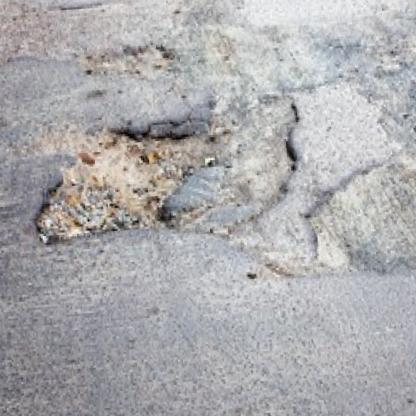pothole: (27, 120, 204, 250), (88, 39, 176, 84)
